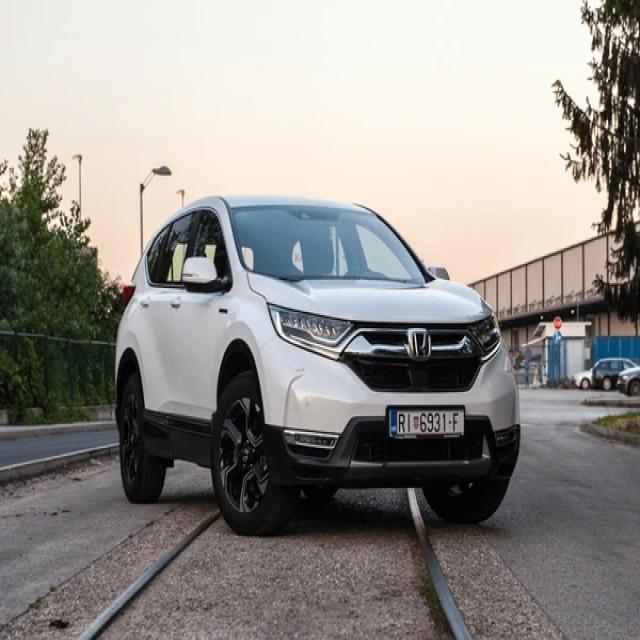honda: (401, 322, 437, 367)
